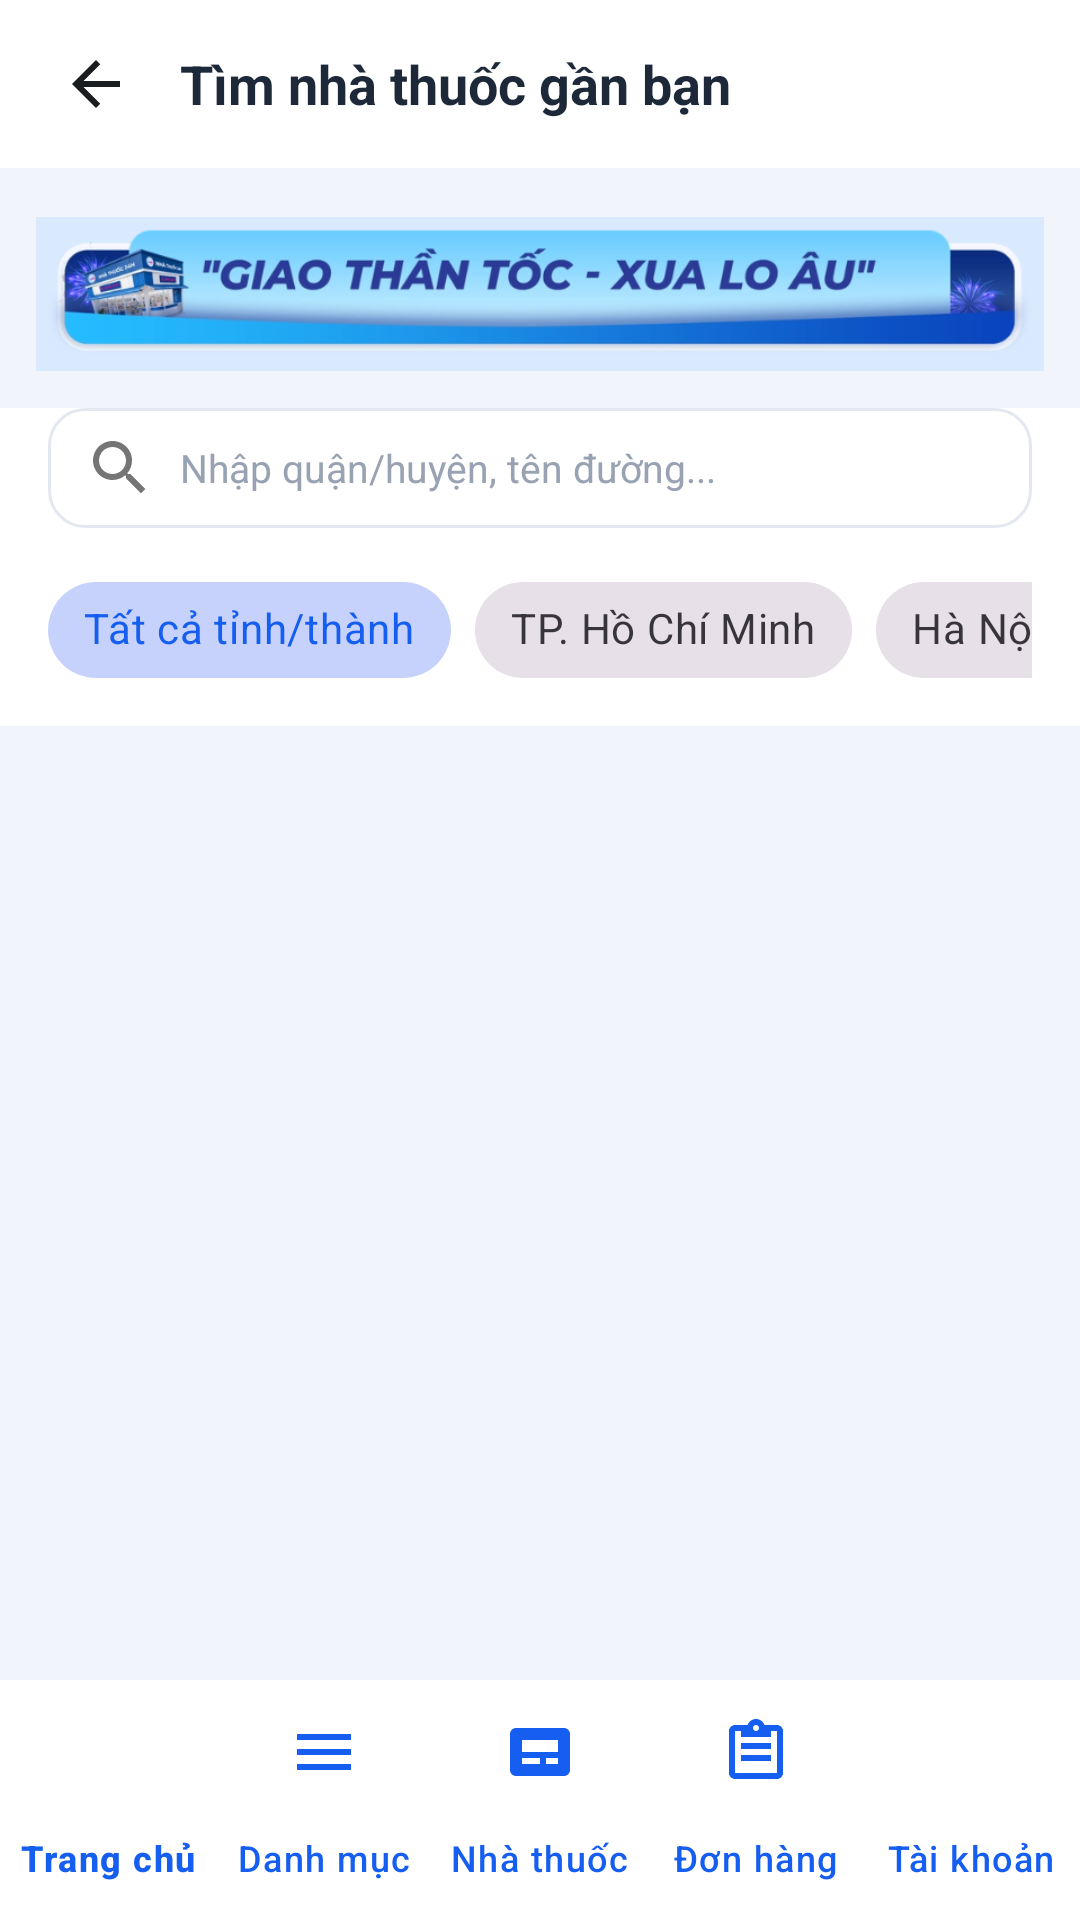

Where to tap for icons on this 1080 × 1920 app screen, as (x=x, y=y):
Back: (x=96, y=84)
